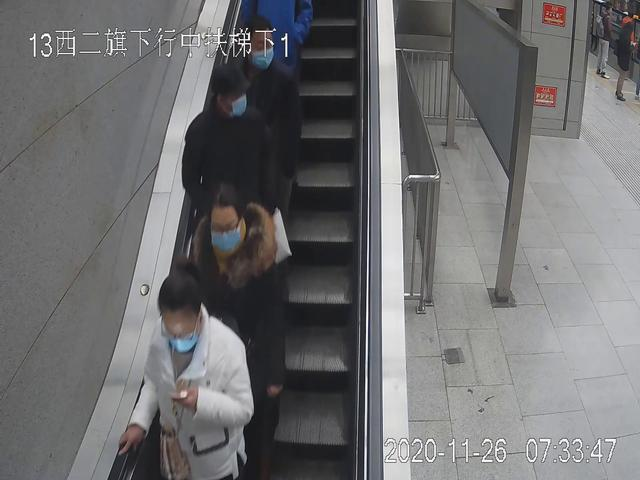person: (116, 273, 254, 480), (193, 184, 283, 479), (183, 63, 276, 332), (221, 20, 301, 299), (594, 3, 613, 78), (614, 21, 631, 102)
